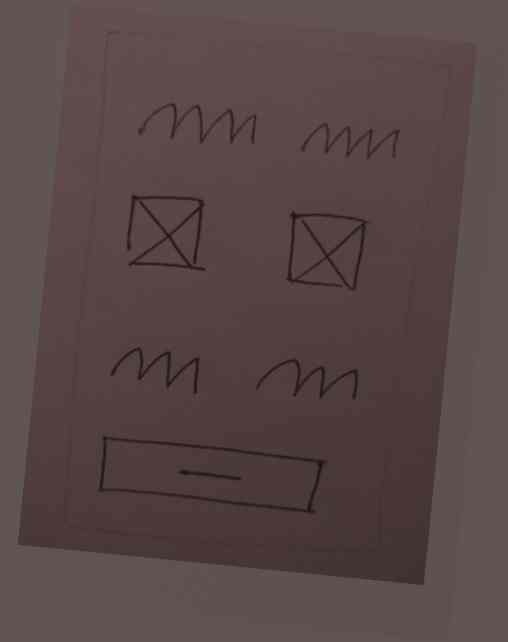button: (89, 428, 329, 520)
image: (274, 202, 374, 300), (116, 186, 219, 278)
text: (129, 90, 263, 161), (243, 342, 367, 414), (100, 331, 209, 403), (290, 112, 405, 175)
